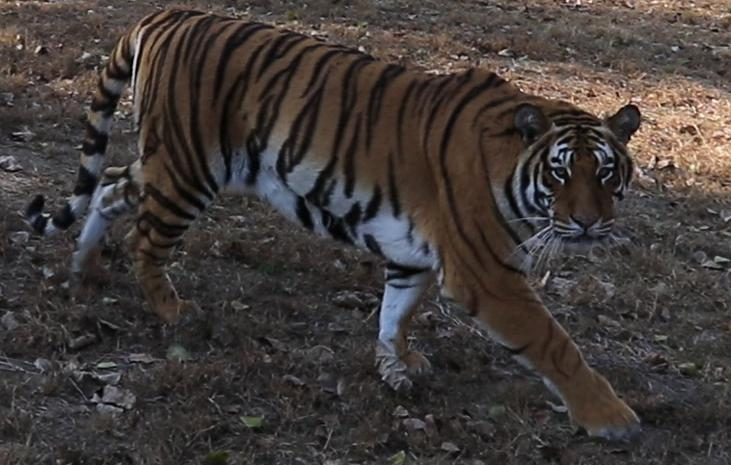tiger: (53, 9, 640, 436)
